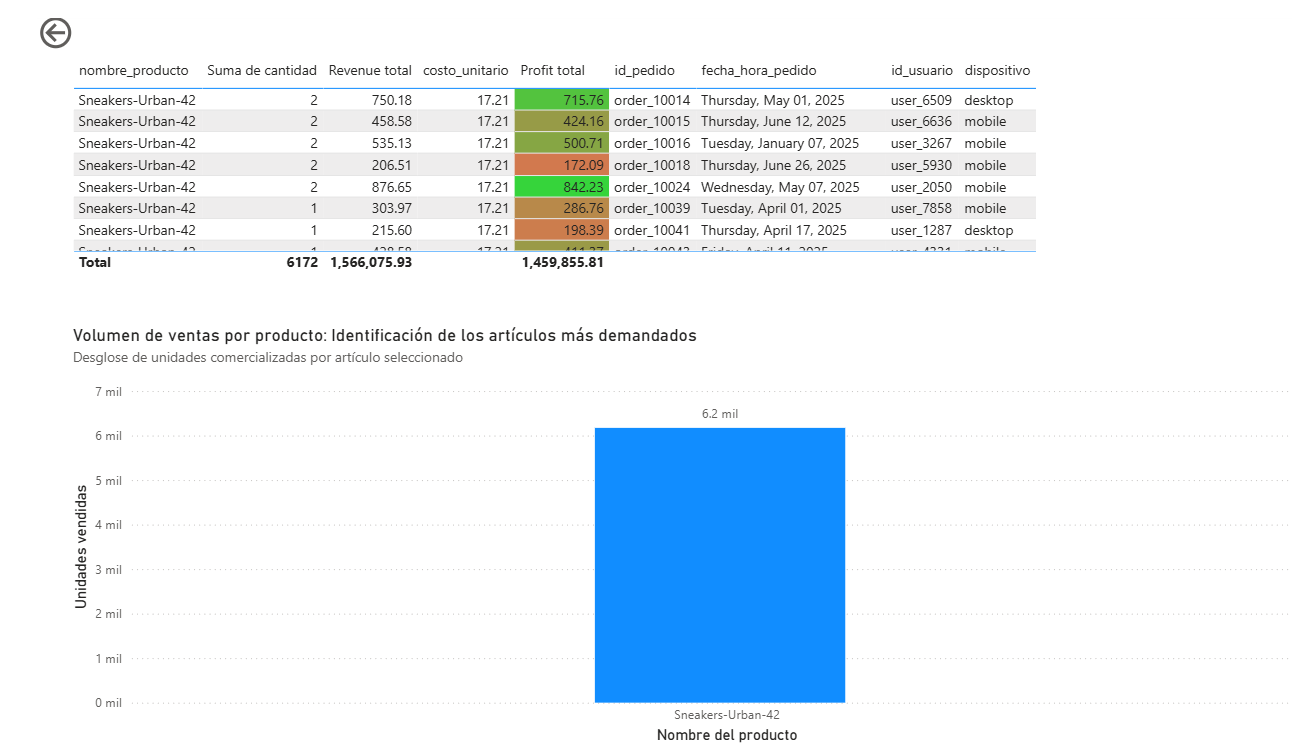

Layout of this report page (visuals, bound fields, positions):
{"tool":"powerbi","page":{"name":"Análisis de Detalle","canvas":[1280,720],"ordinal":1},"visuals":[{"type":"actionButton","box":[0,0,100,40],"z":0},{"type":"tableEx","fields":{"Values":["catalog_clean.nombre_producto","Sum(orders_clean.cantidad)","orders_clean.Revenue total","catalog_clean.costo_unitario","orders_clean.Profit total","orders_clean.id_pedido","orders_clean.fecha_hora_pedido","orders_clean.id_usuario","orders_clean.dispositivo"]},"box":[31.5,39.4,1231.4,216],"z":1000},{"type":"clusteredColumnChart","title":"Volumen de ventas por producto: Identificación de los artículos más demandados","fields":{"Category":["catalog_clean.nombre_producto"],"Y":["Sum(orders_clean.cantidad)"]},"box":[31.5,301.2,1215.7,408.4],"z":2000}]}

Visuals, with their boxes on the page's 1280x720 design canvas (x1, y1, x2, y2). These are canvas units, not pixel positions in the 1292x747 screenshot, which may show the page scaled, cropped or inside an application window:
actionButton: Rect(0, 0, 100, 40)
tableEx - catalog_clean.nombre_producto x Sum(orders_clean.cantidad): Rect(32, 39, 1263, 255)
"Volumen de ventas por producto: Identificación de los artículos más demandados" clusteredColumnChart: Rect(32, 301, 1247, 710)
